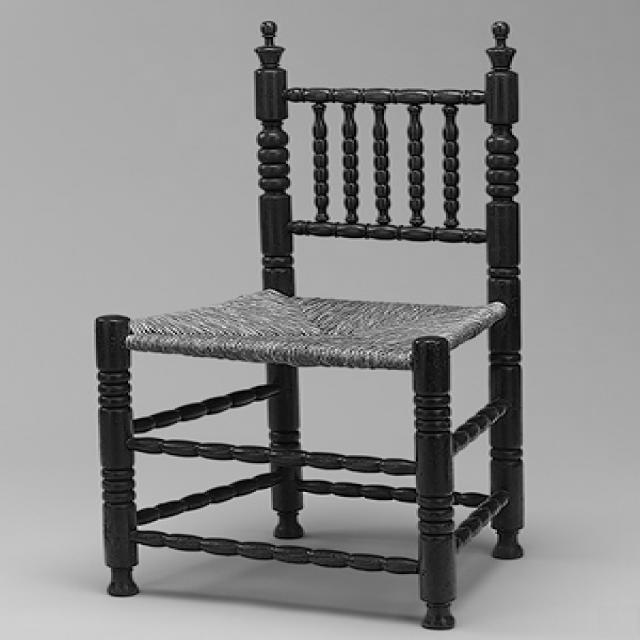chair: (94, 19, 546, 632)
